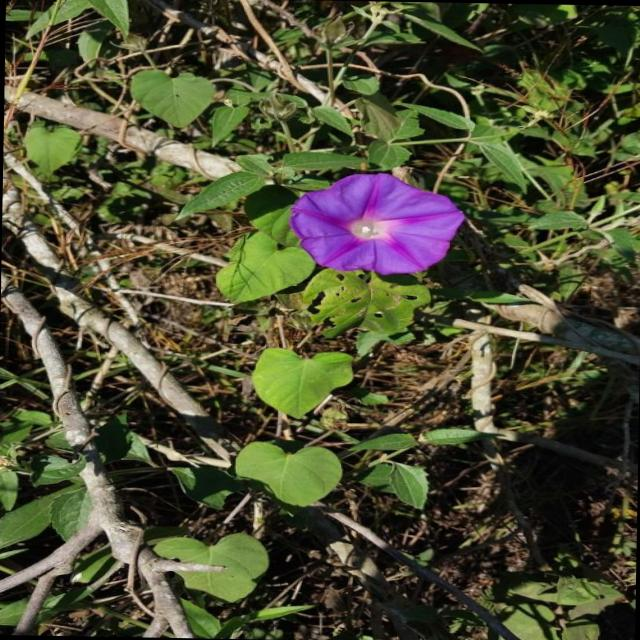ipomoea: (282, 170, 468, 278)
